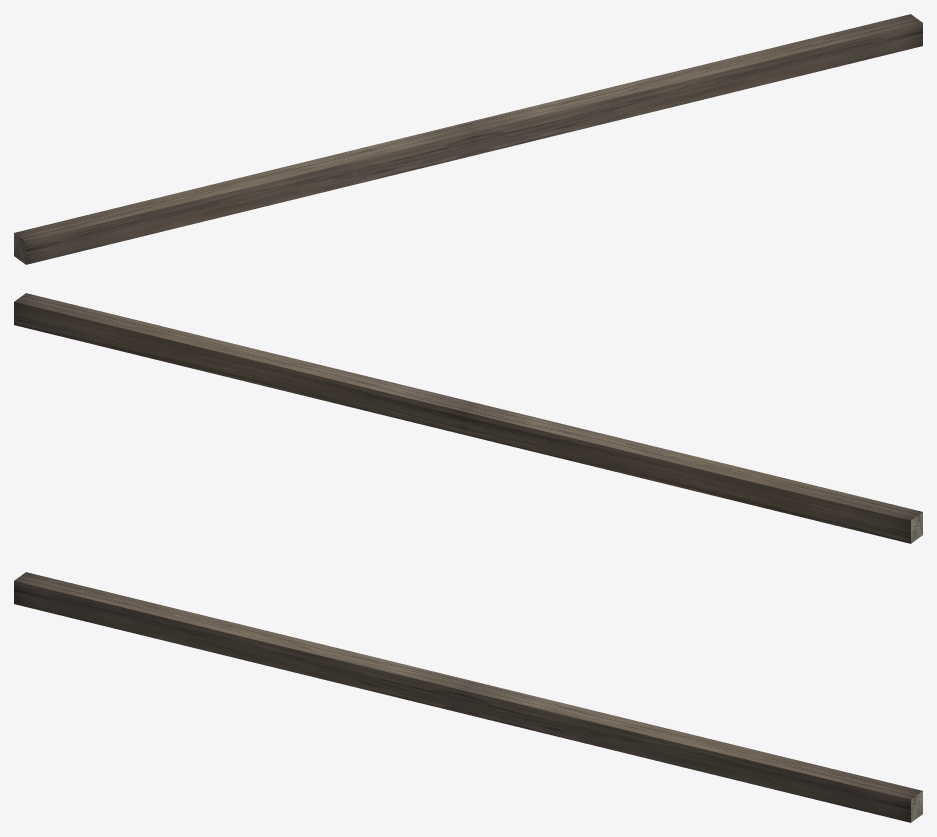
Rendered from Pole_C.fbx.
3 views of the same model, one above another, from view 1: azimuth 30°, elevation 25°; view 2: azimuth 150°, elevation 25°; view 3: azimuth 330°, elevation 25° (orthographic).
Visible parts, largest first — view 1: Pole_C; view 2: Pole_C; view 3: Pole_C.
Boxes of the visible parts, bbox=[...] form: Pole_C: bbox=[14, 14, 922, 264]; Pole_C: bbox=[14, 293, 922, 543]; Pole_C: bbox=[14, 572, 922, 822].
Size of the model in its own units: 6.02 by 0.1485 by 0.1403.
